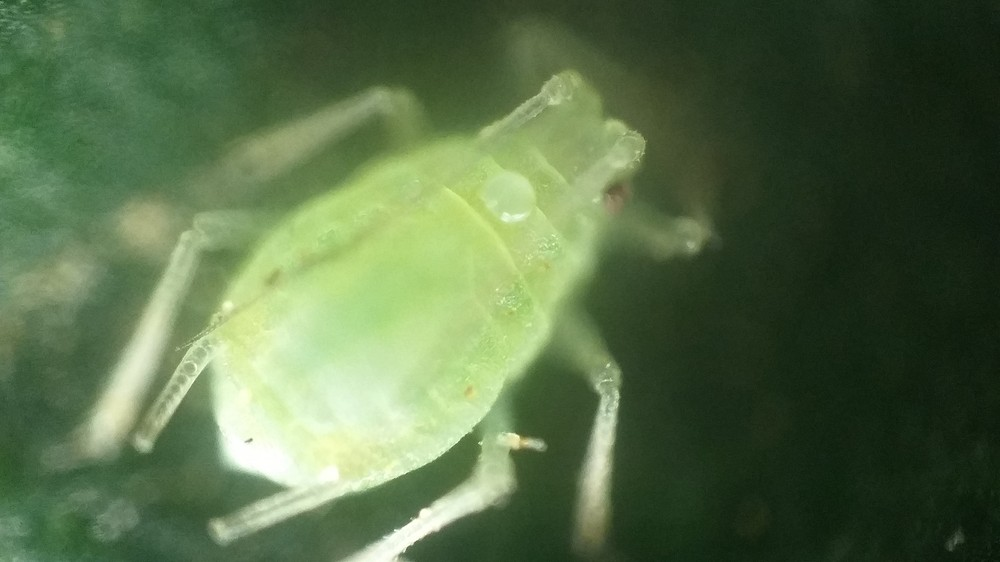Pulgon: (68, 21, 729, 558)
